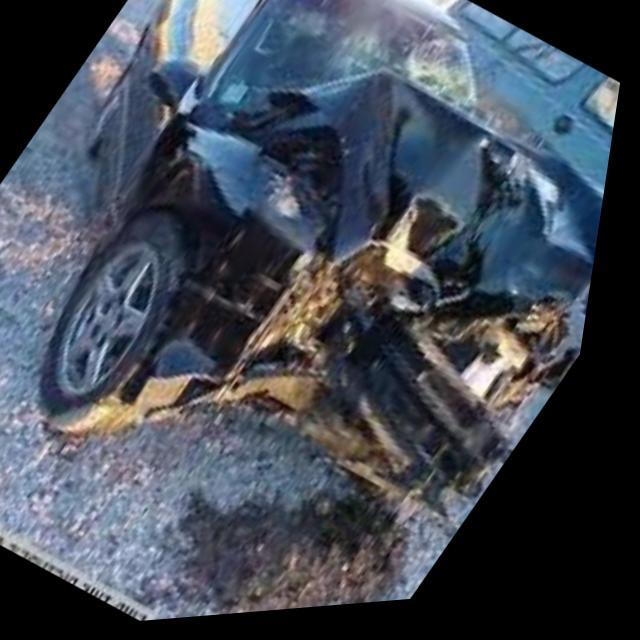crash: (102, 14, 611, 540)
